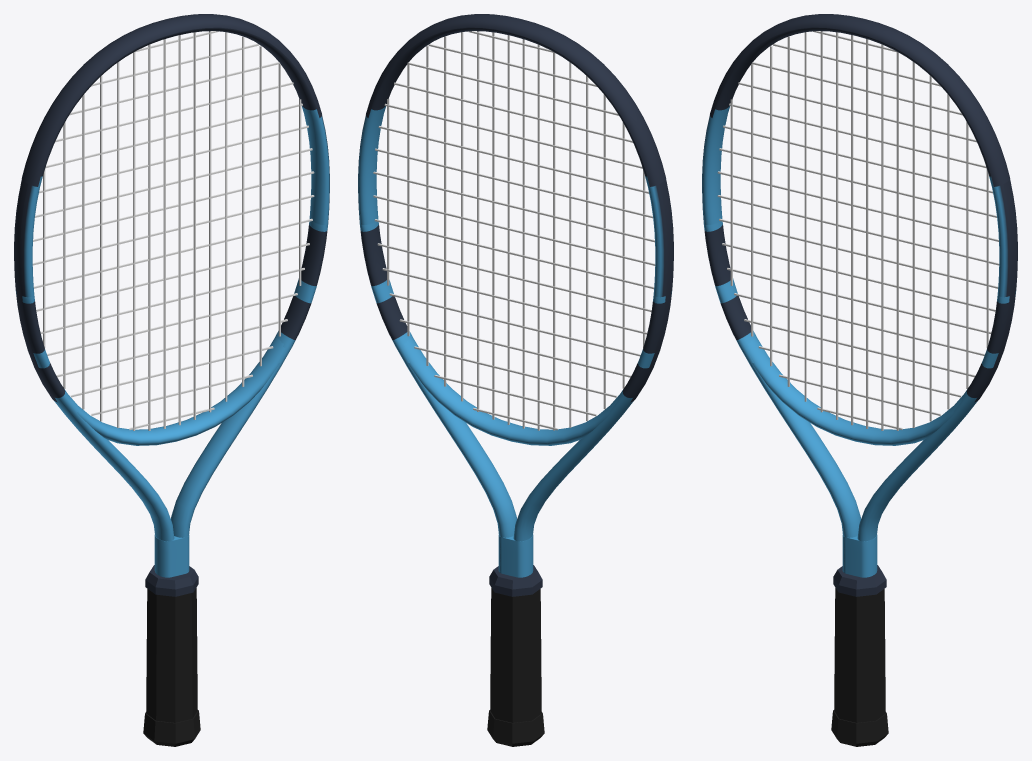
The model's file is babolat-drive-junior-23-2025.glb.
3 views of the same model, side by side, from view 1: azimuth 30°, elevation 25°; view 2: azimuth 150°, elevation 25°; view 3: azimuth 330°, elevation 25° (orthographic).
Parts seen in each view (by area): view 1: frame, strings_mains, strings_crosses, grip, bumper, butt_cap, grommets, collar; view 2: frame, strings_mains, strings_crosses, grip, bumper, butt_cap, grommets, collar; view 3: frame, strings_mains, strings_crosses, grip, bumper, butt_cap, grommets, collar.
Part boxes in pixels (x1,y1,x2,y2): frame: (14,27,329,577); strings_mains: (43,31,301,430); strings_crosses: (32,31,314,429); grip: (146,588,197,722); bumper: (21,14,321,186); butt_cap: (143,710,200,746); grommets: (14,180,57,402); collar: (145,565,198,596); frame: (358,27,673,577); strings_mains: (387,31,645,430); strings_crosses: (373,31,655,430); grip: (490,588,541,722); bumper: (366,14,666,186); butt_cap: (487,710,544,746); grommets: (630,180,673,402); collar: (489,565,542,596); frame: (702,27,1017,577); strings_mains: (730,31,988,430); strings_crosses: (717,31,999,429); grip: (834,588,885,722); bumper: (710,14,1010,186); butt_cap: (831,710,888,746); grommets: (974,180,1017,402); collar: (833,565,886,596).
Size of the model in its own units: 0.2652 by 0.5845 by 0.0396.
